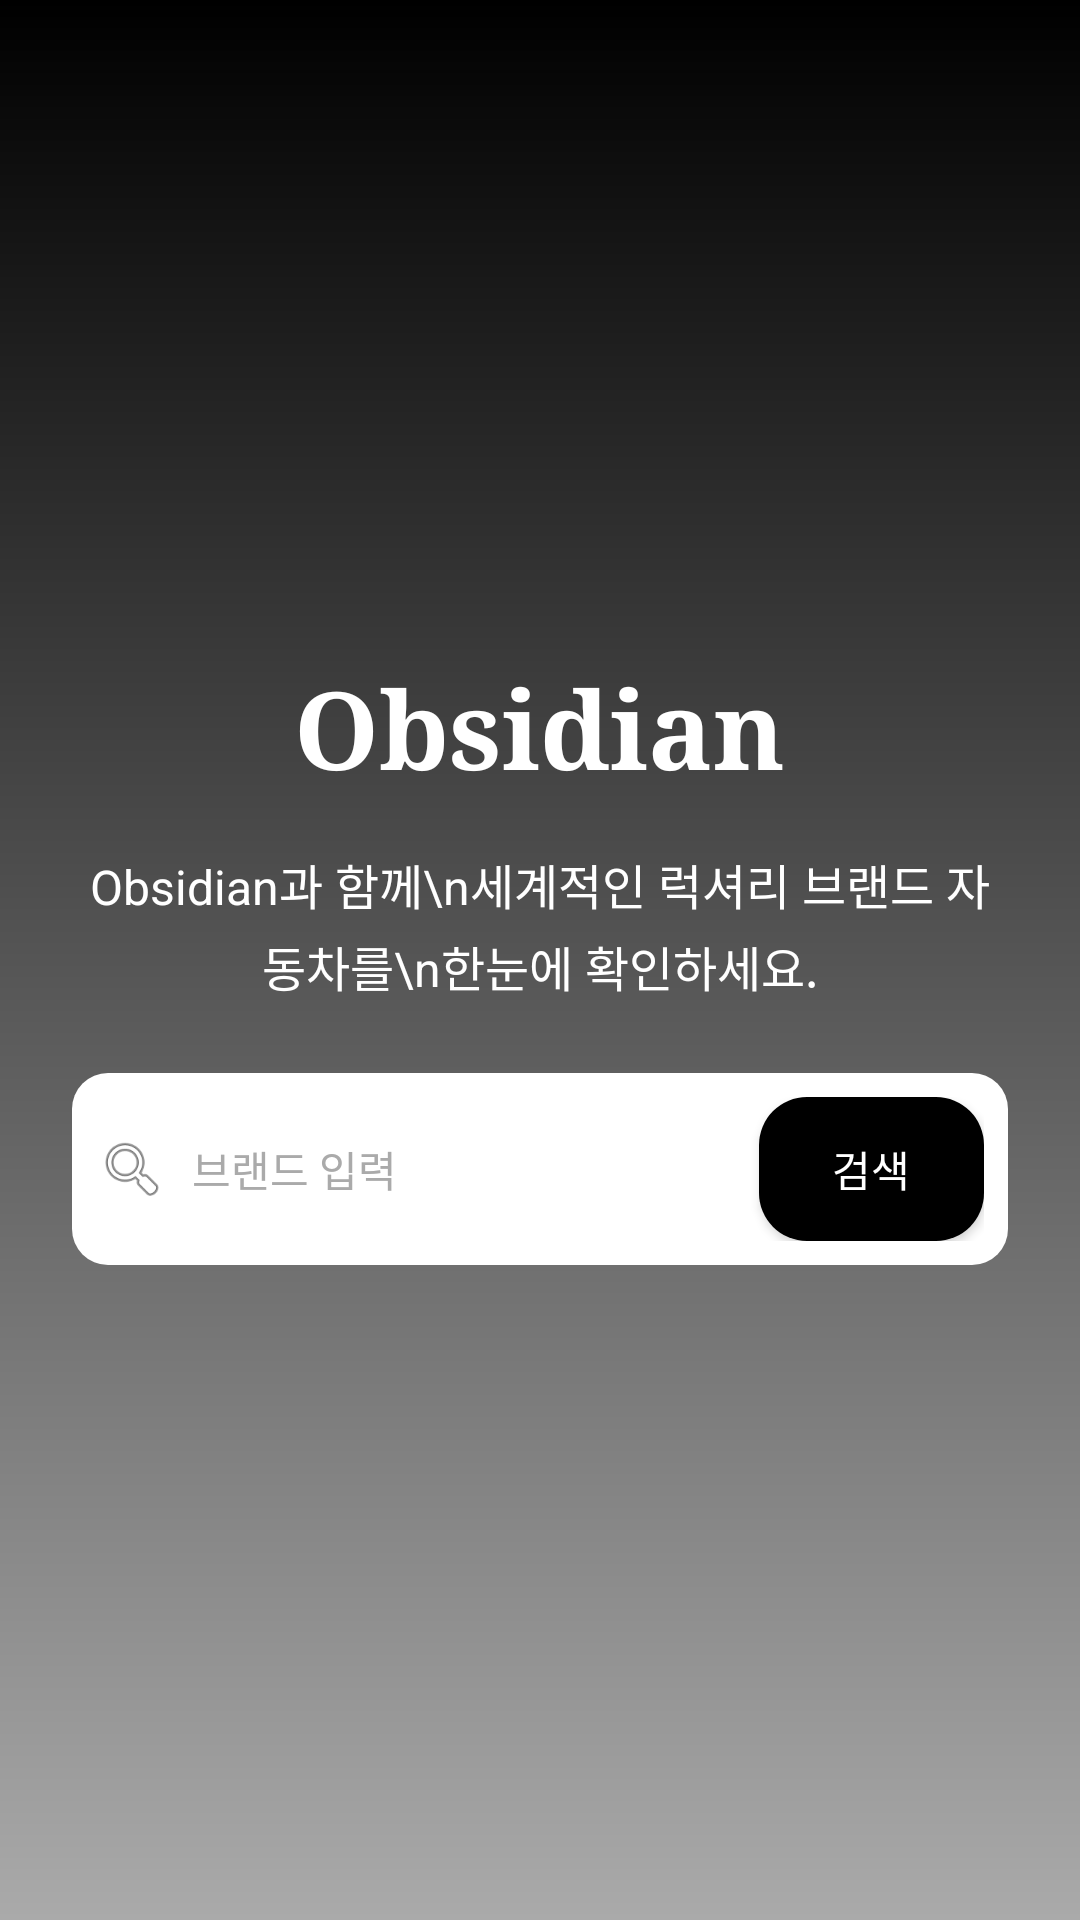

Icons on this 1080 × 1920 Android screen, each with its box as (x1, y1, x2, y2):
search: (105, 1143, 159, 1196)
